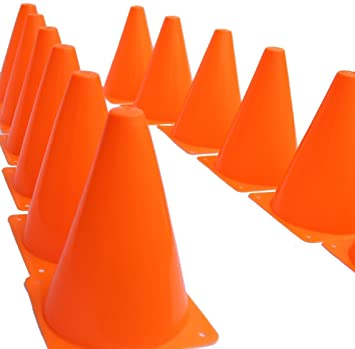cones: (51, 103, 216, 349), (197, 26, 303, 195), (6, 7, 59, 207), (104, 5, 193, 117)
